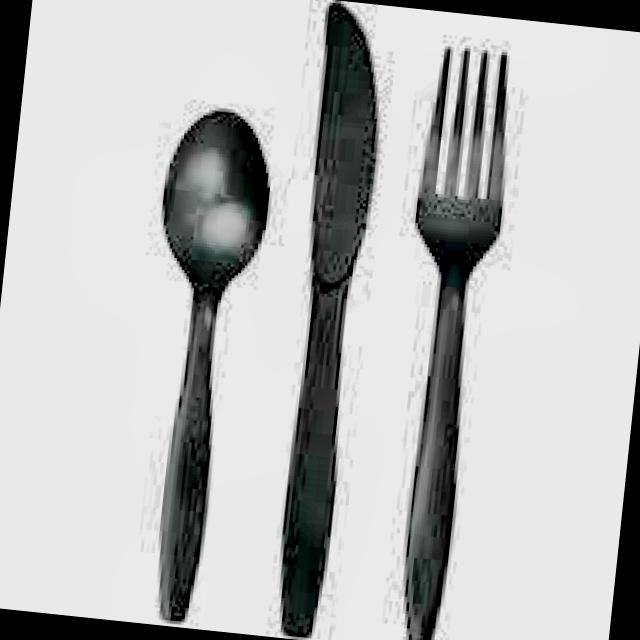plastic utensil: (282, 2, 377, 635), (406, 49, 506, 640), (159, 111, 266, 620)
